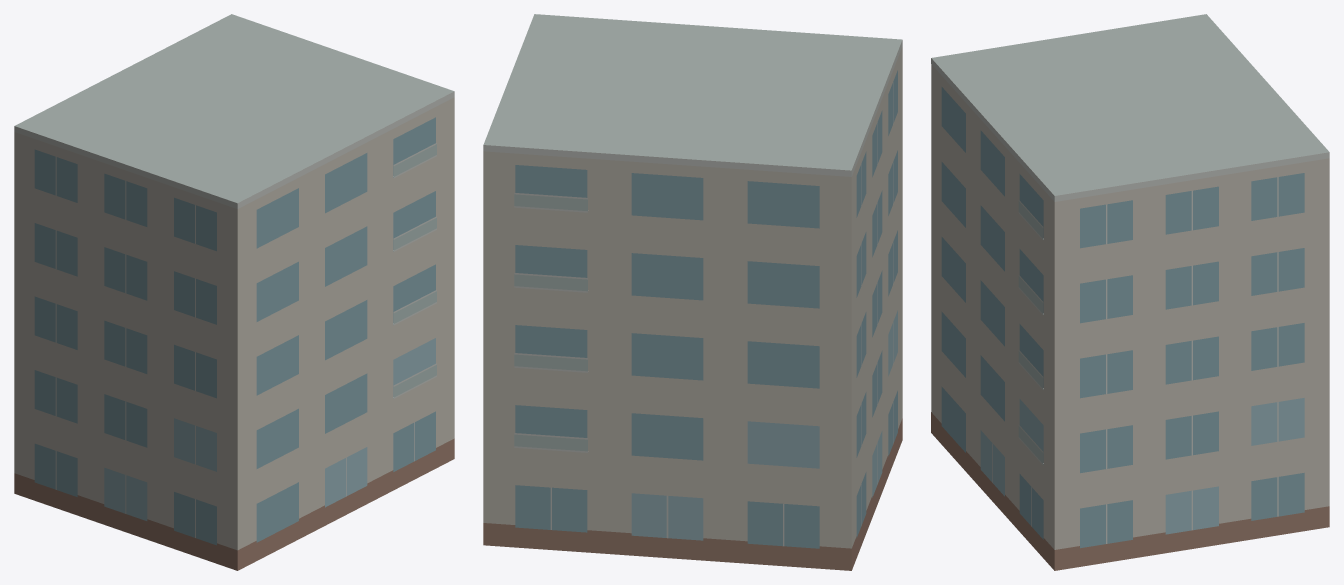
File: residential-54ce9c96-55d5-46ce-b673-04743544fb28.glb
The picture shows the model from 3 angles, left to right: view 1: azimuth 30°, elevation 25°; view 2: azimuth 150°, elevation 25°; view 3: azimuth 270°, elevation 25°; orthographic projection. The views are drawn at different scales.
Parts seen in each view (by area): view 1: residential-54ce9c96-55d5-46ce-b673-04743544fb28.tmp; view 2: residential-54ce9c96-55d5-46ce-b673-04743544fb28.tmp; view 3: residential-54ce9c96-55d5-46ce-b673-04743544fb28.tmp.
Part boxes in pixels (<box>): residential-54ce9c96-55d5-46ce-b673-04743544fb28.tmp: <box>14,14,454,570</box>; residential-54ce9c96-55d5-46ce-b673-04743544fb28.tmp: <box>483,14,902,570</box>; residential-54ce9c96-55d5-46ce-b673-04743544fb28.tmp: <box>931,14,1329,570</box>.
Size of the model in its own units: 15.89 by 15.25 by 14.71.
